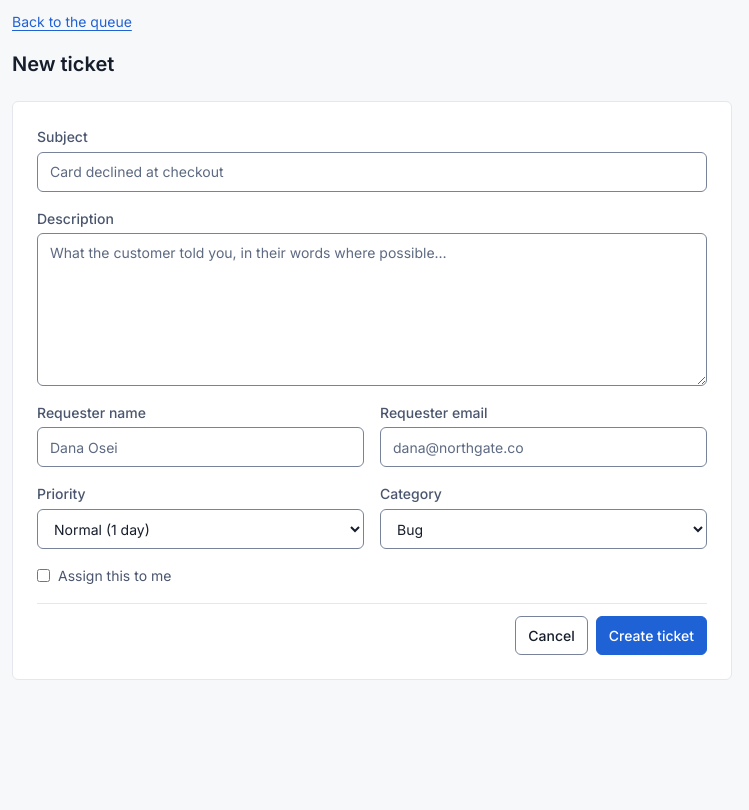
it: NewTicketPage › warns when the requester already has open tickets
The width and height of the screenshot is (749, 810).
Type "jane@corp.com" into the field labelled "Requester email" at (544, 447), box [380,427,707,467]
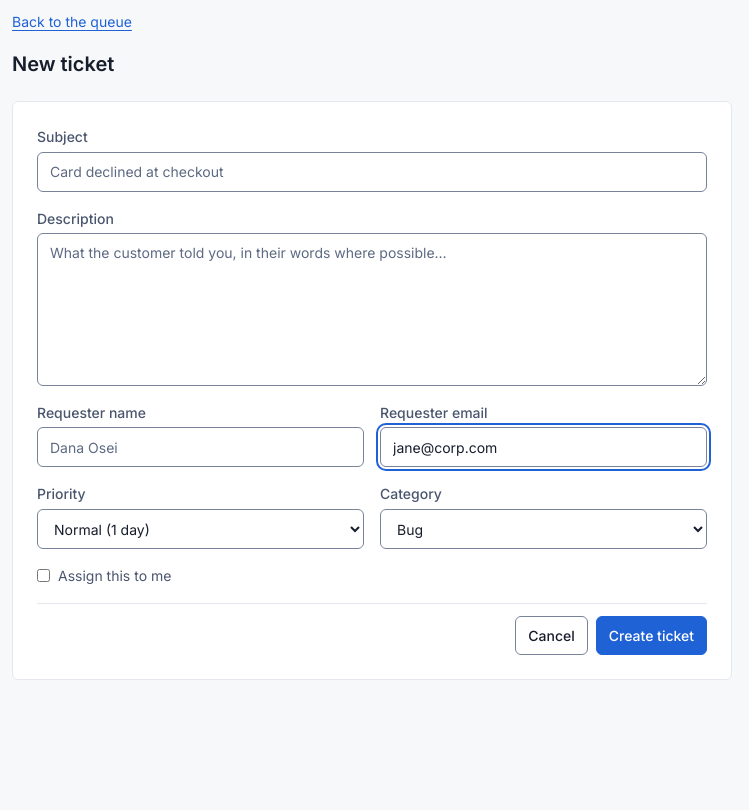
Press Tab
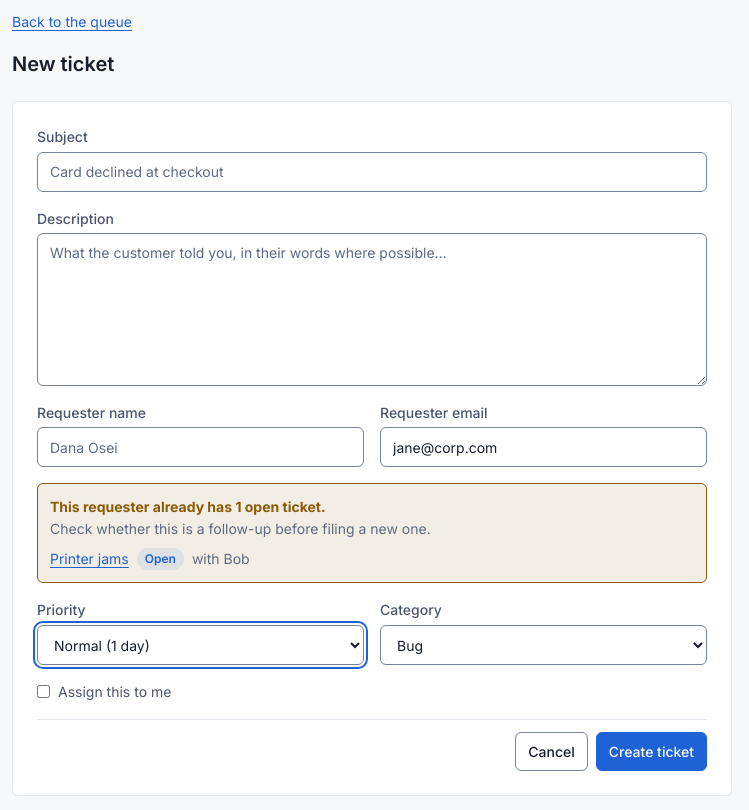
Check: the text "This requester already has 1 open ticket." is shown, box [50,498,326,515]
Check: the link "Printer jams" is shown, box [50,548,129,570]
Check: the text "with Bob" is shown, box [192,548,250,570]
